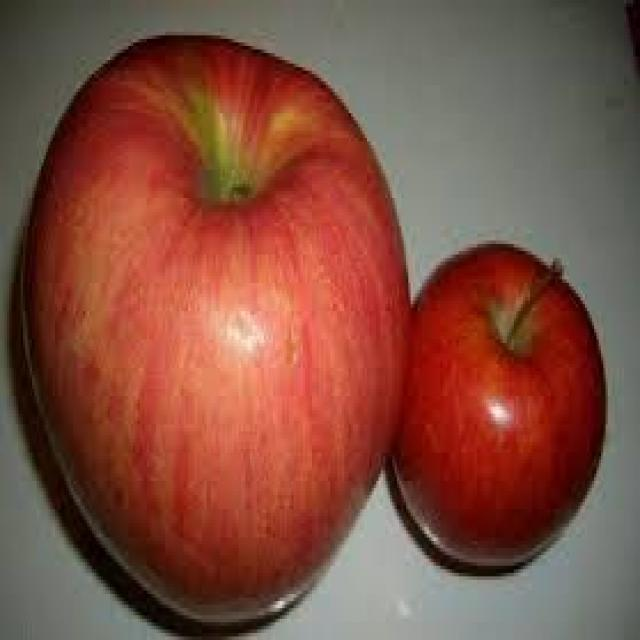organic waste: (16, 28, 411, 630), (386, 237, 606, 573)
